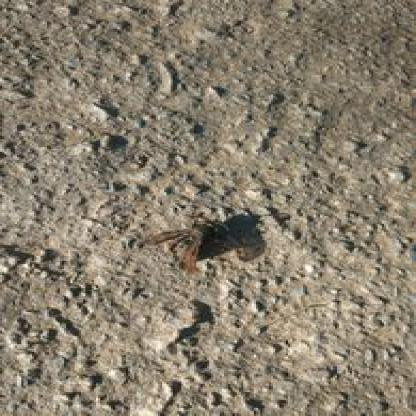Asian Hornet: (158, 200, 244, 274)
